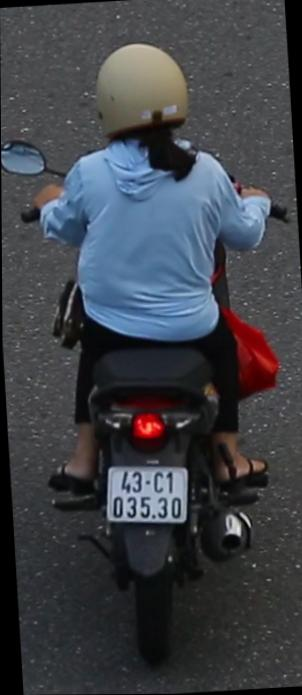LP: (102, 453, 192, 534)
helmet: (88, 35, 198, 175)
